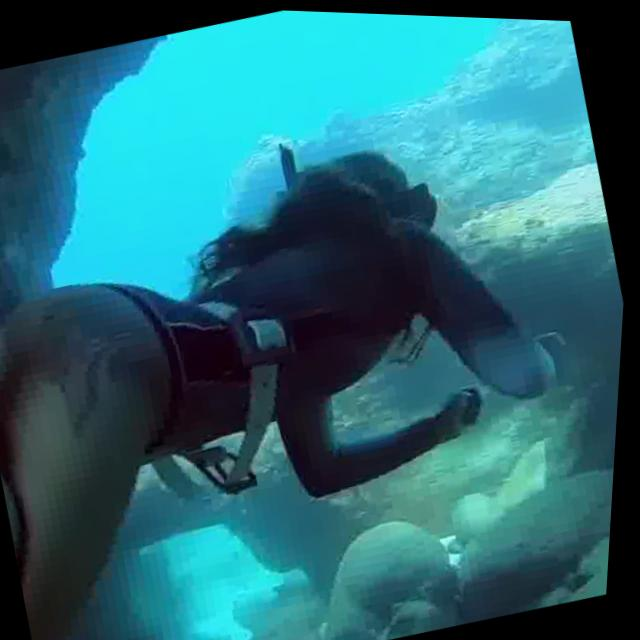human: (0, 14, 639, 640)
